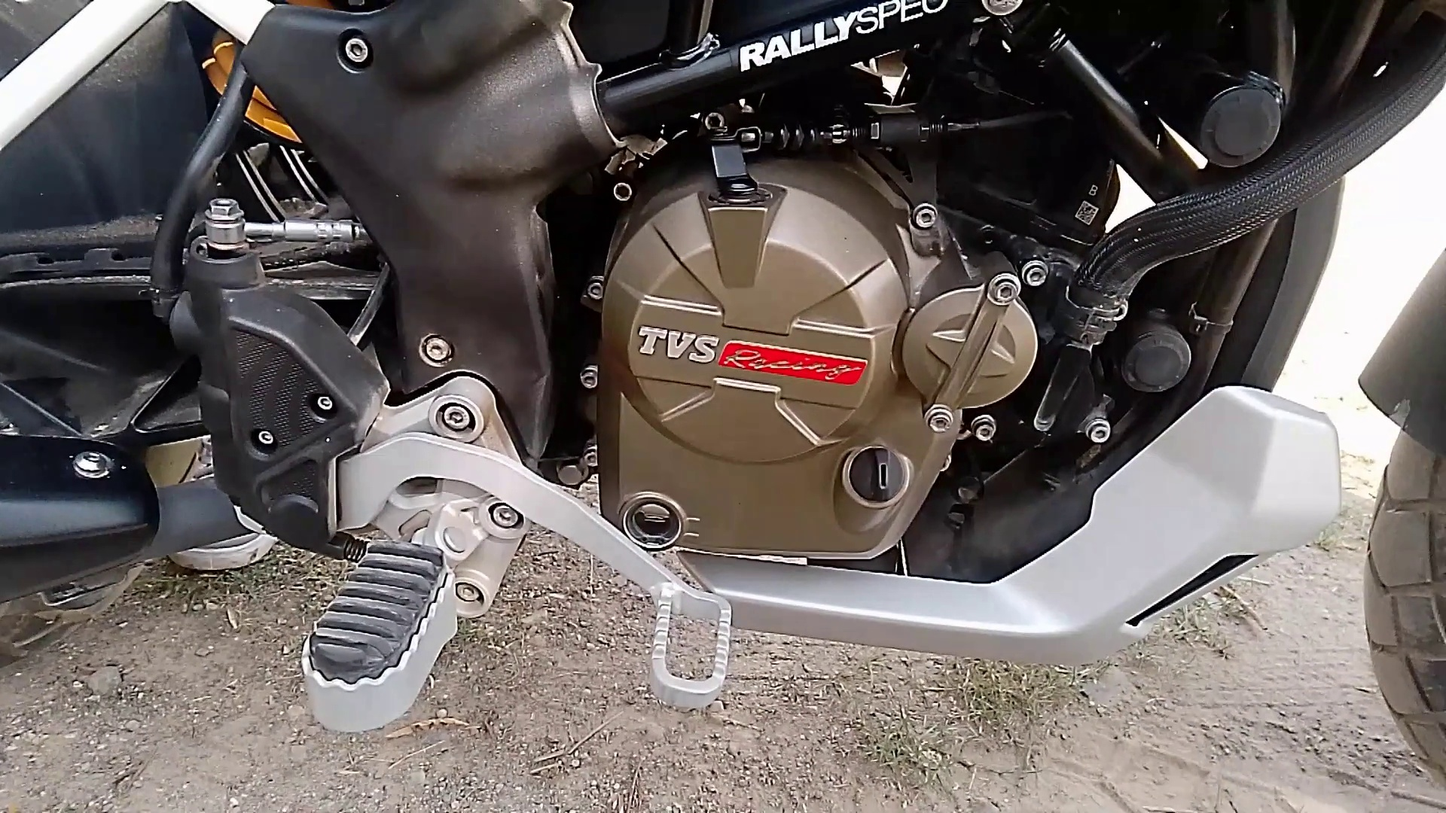engine: (582, 77, 1079, 619)
oil_cap: (834, 433, 923, 516)
oil_marker: (606, 476, 723, 561)
